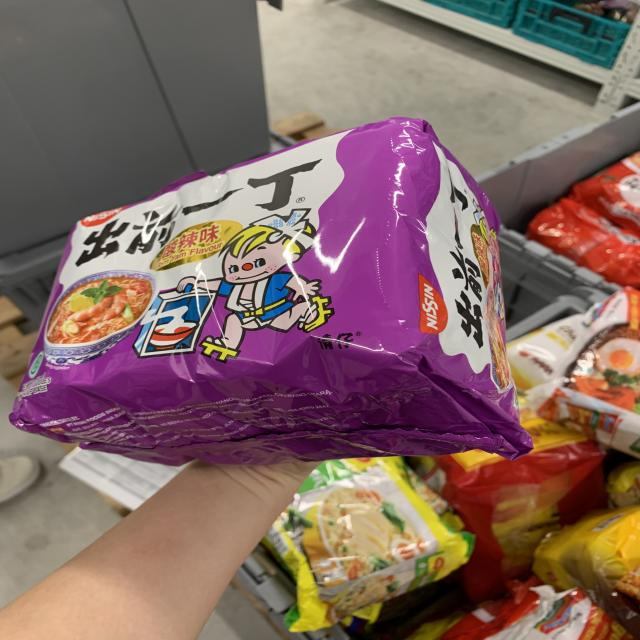object_name: (58, 137, 495, 441)
